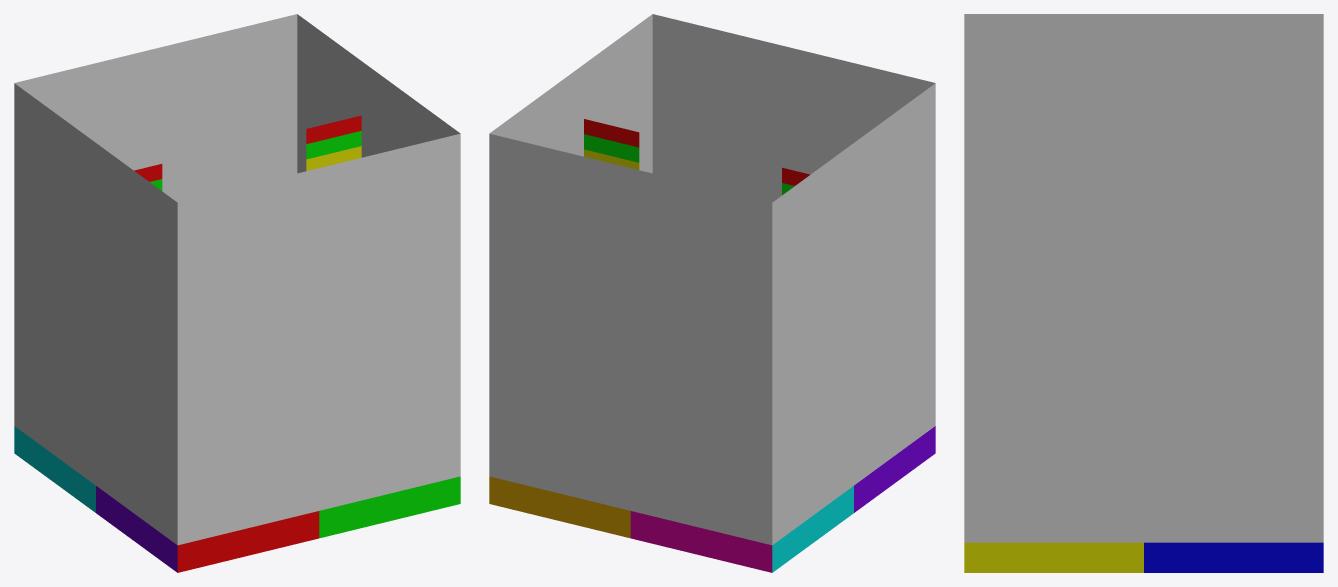
File: r2HUD_alpha.dae
The picture shows the model from 3 angles, left to right: view 1: azimuth 30°, elevation 25°; view 2: azimuth 150°, elevation 25°; view 3: azimuth 270°, elevation 25°; orthographic projection. The views are drawn at different scales.
Visible parts, largest first — view 1: r2HUDacBackboard, r2HUDacBase, r2HUDacButtons1_001; view 2: r2HUDacBackboard, r2HUDacBase, r2HUDacButtons1_001; view 3: r2HUDacBackboard, r2HUDacBase.
Part boxes in pixels (x1,y1,x2,y2): r2HUDacBackboard: [14, 14, 460, 545]; r2HUDacBase: [14, 426, 460, 572]; r2HUDacButtons1_001: [306, 115, 361, 171]; r2HUDacBackboard: [489, 14, 935, 545]; r2HUDacBase: [489, 426, 935, 572]; r2HUDacButtons1_001: [584, 119, 639, 169]; r2HUDacBackboard: [964, 14, 1323, 542]; r2HUDacBase: [964, 542, 1323, 572].
Size of the model in its own units: 4 by 4 by 5.
